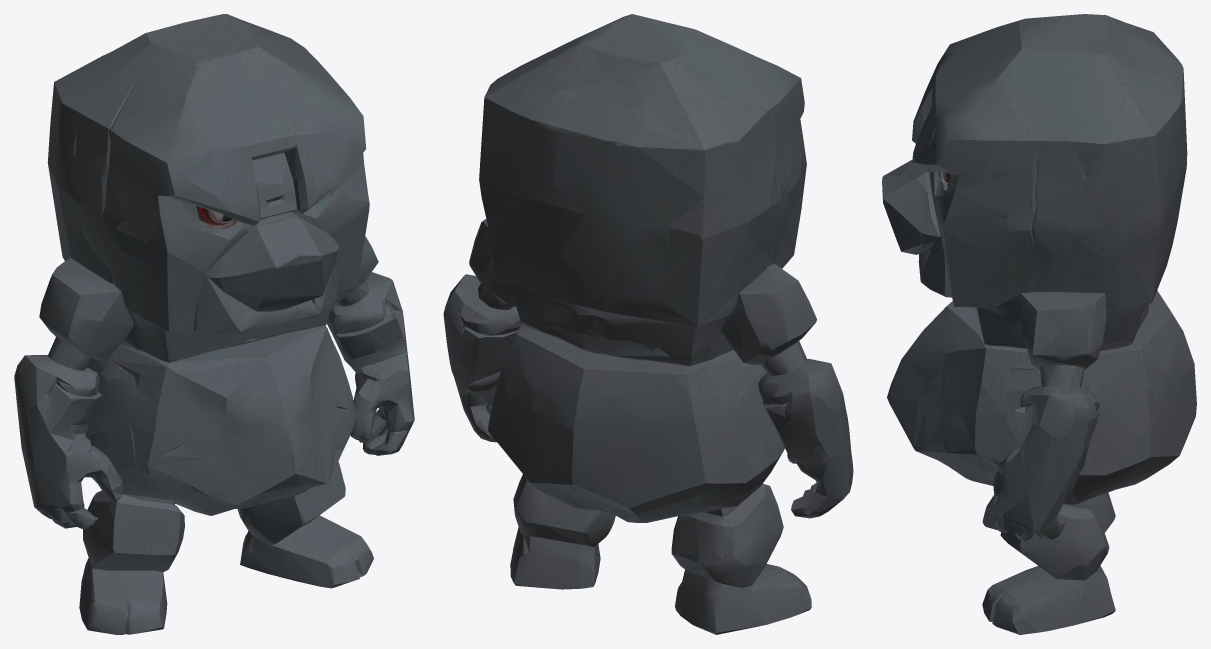
File: lock.glb
3 renders of one model, left to right at view 1: azimuth 30°, elevation 25°; view 2: azimuth 150°, elevation 25°; view 3: azimuth 270°, elevation 25°, orthographic. The views are drawn at different scales.
Bounding box in the file's own units: 1.39 × 1.9 × 1.02.
Materials: 1 (1 with a texture image).
